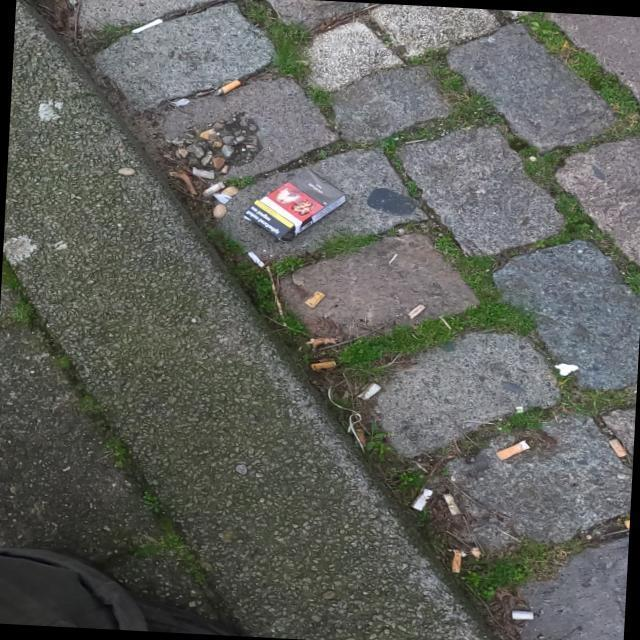Paper: (240, 163, 350, 244)
